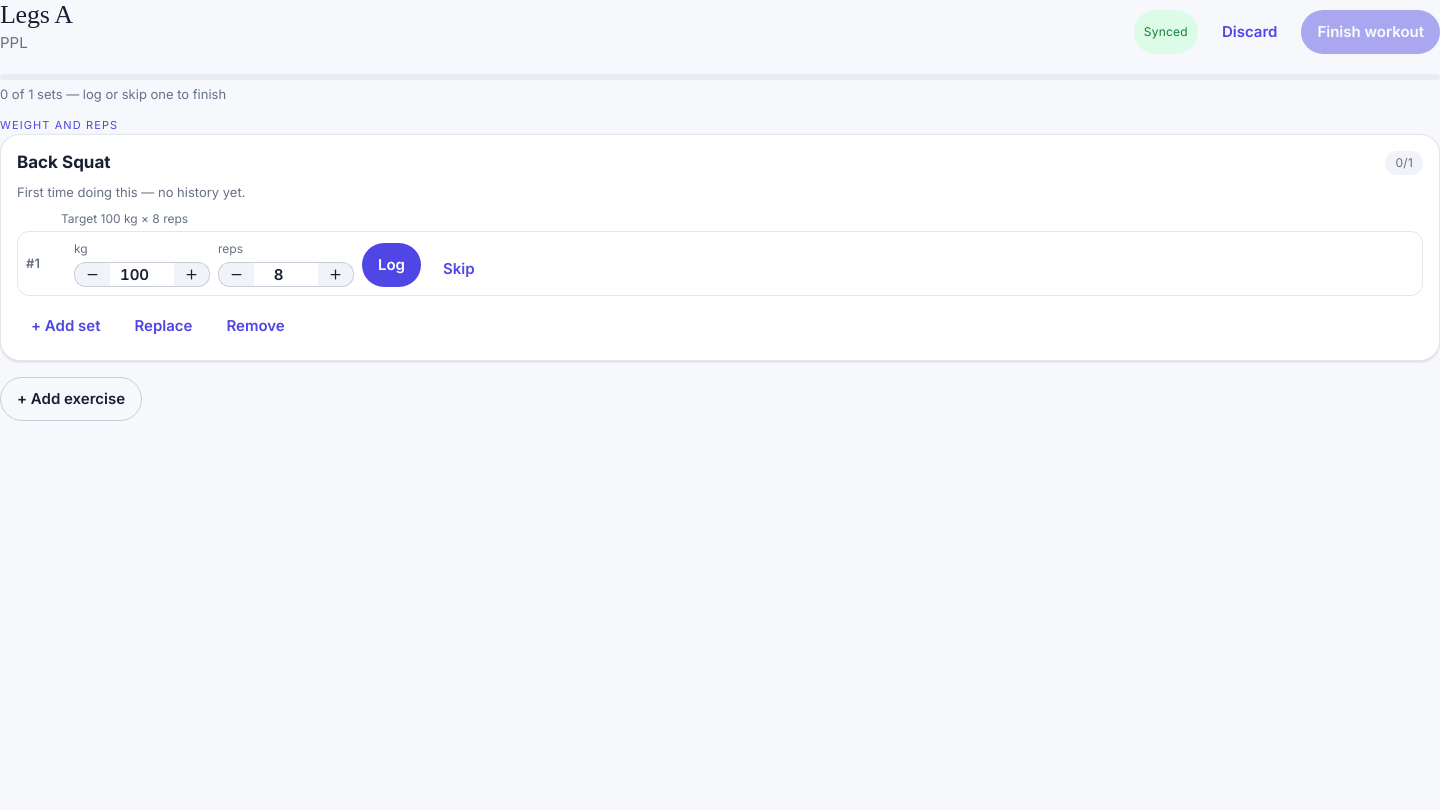
Test: ActiveWorkoutScreen › starts a rest countdown after logging a set
Fields are pre-seeded from the target — just log.
Click the button "Log": (392, 266) top-left (362, 244), bottom-right (421, 288)
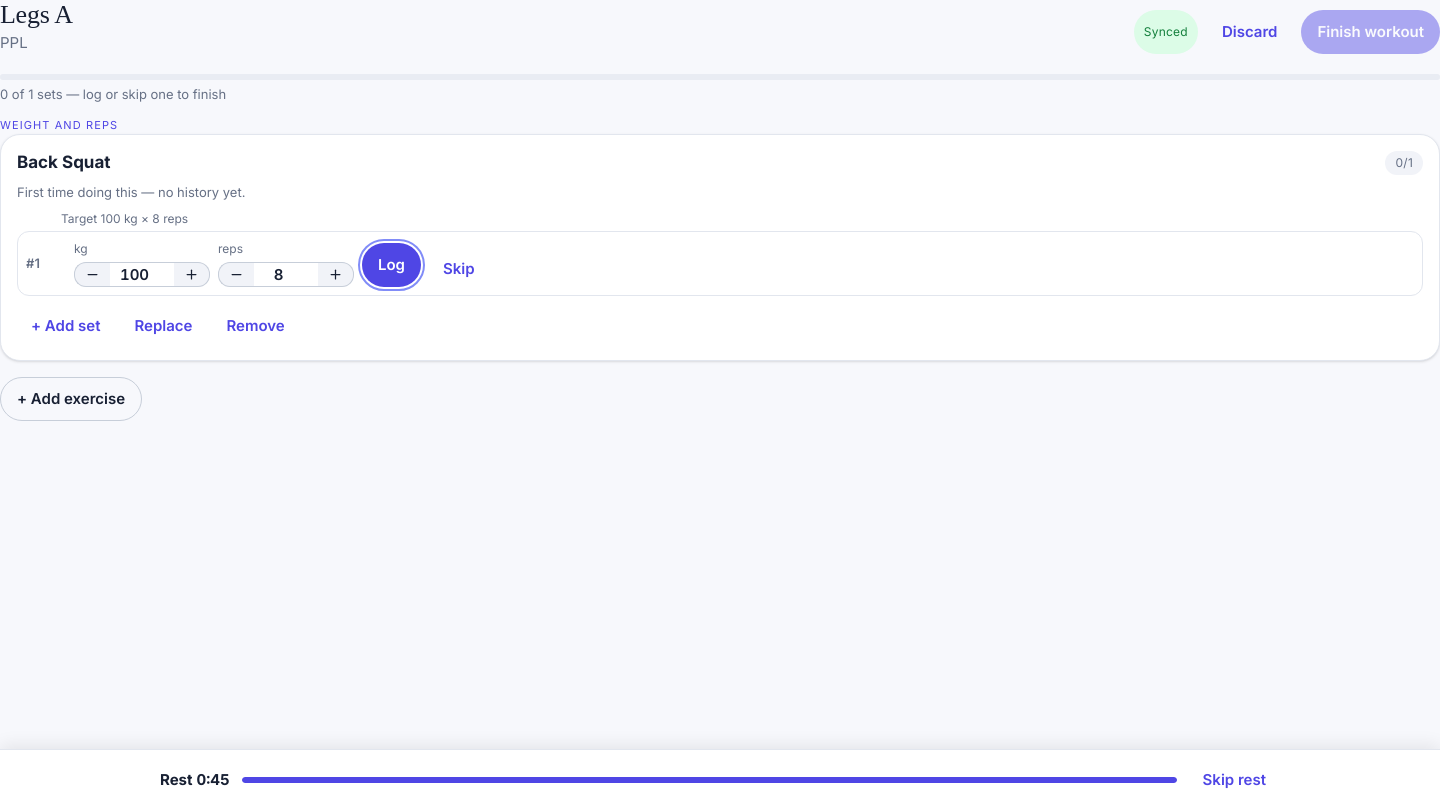
Now the text "Rest 0:45" is shown, box top-left (160, 769), bottom-right (230, 791)
Click the button "Skip rest": (1234, 780) top-left (1189, 762), bottom-right (1280, 798)
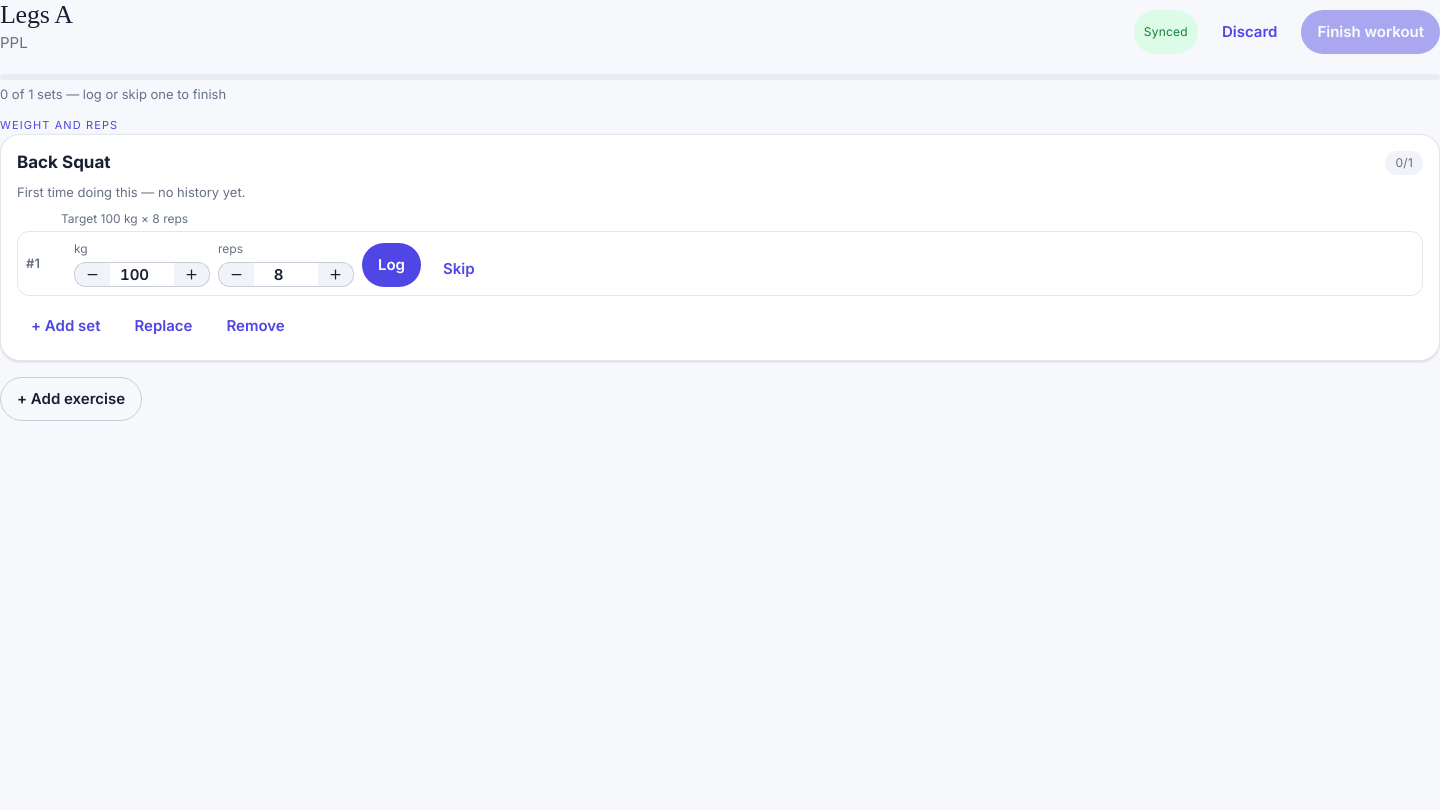
Now the text "Rest " is gone
